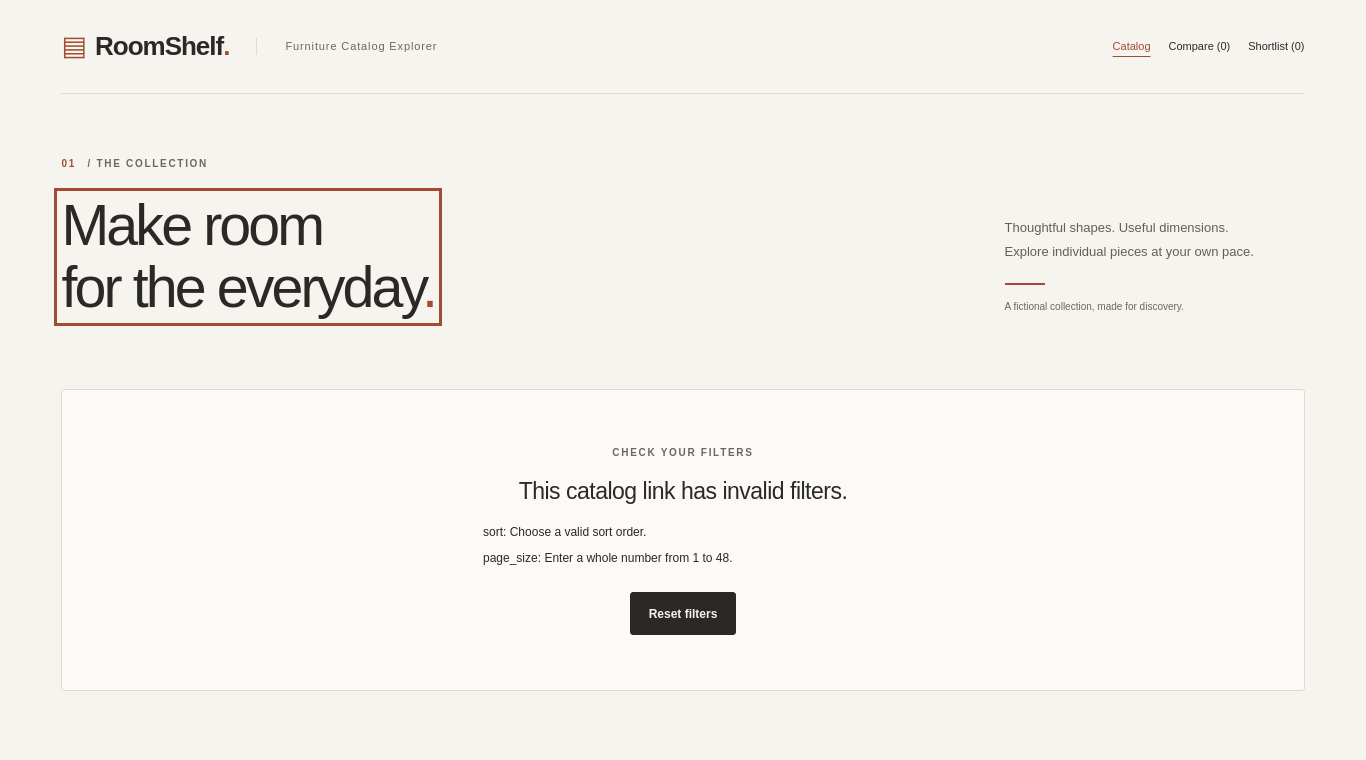
Test: catalog browsing › shows invalid URLs without requesting products and can reset
Expected: the message shows "This catalog link has invalid filters.", [519,478,847,504]
Click the button "Reset filters" at (683,614), box [630,592,736,635]
(page scrolled)
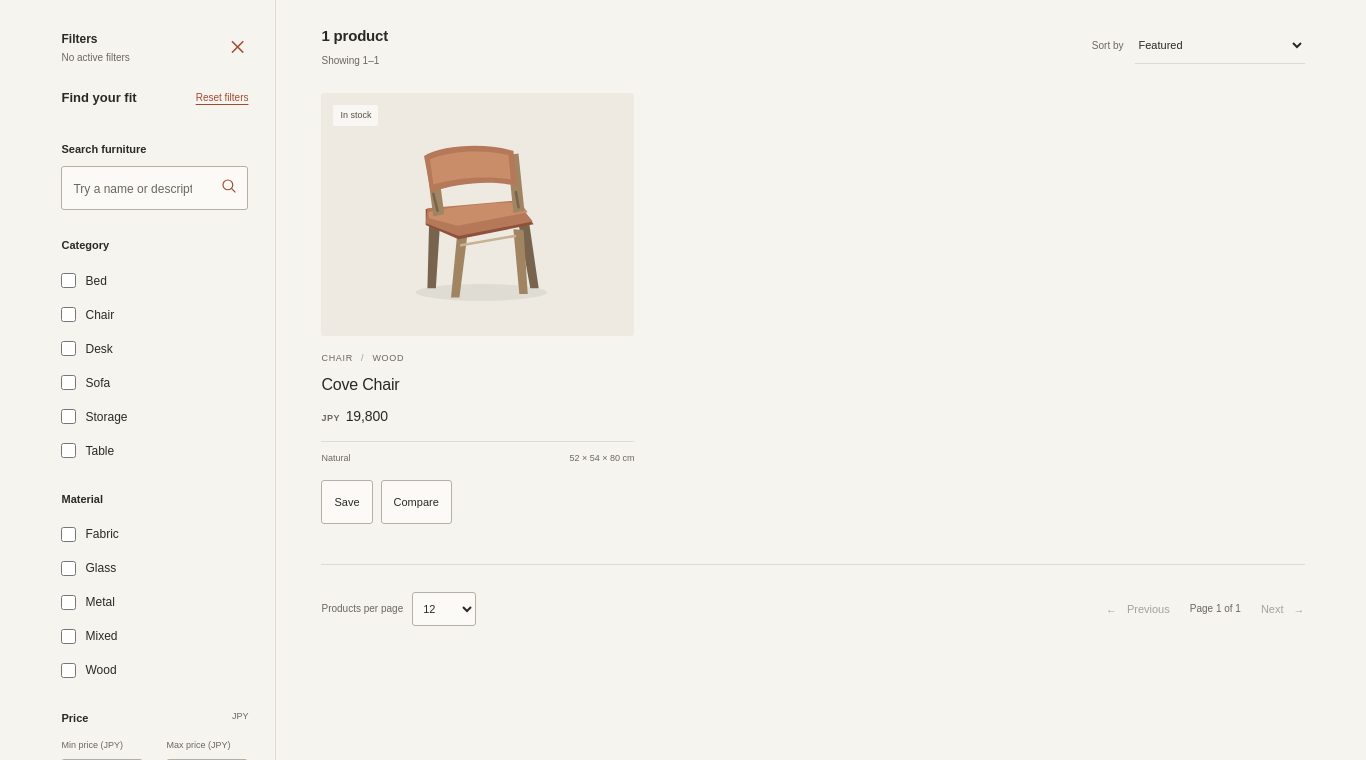
Expected: the heading "Cove Chair" is shown, [322,376,400,393]
